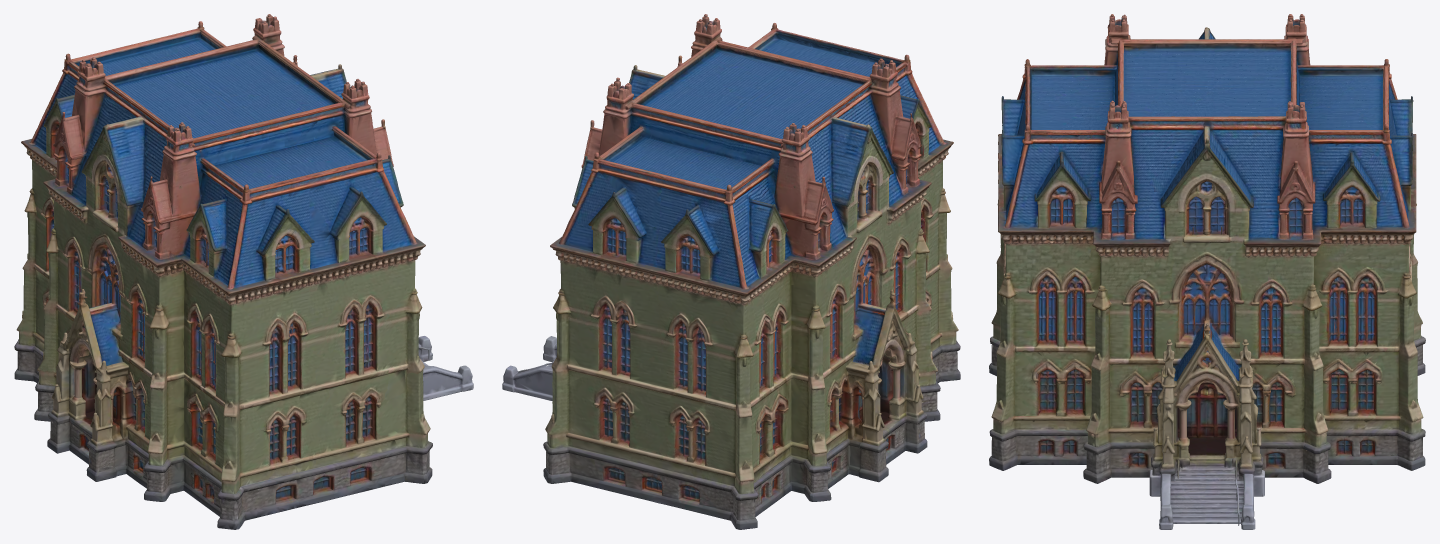
Rendered from college-hall.glb.
The picture shows the model from 3 angles, left to right: view 1: azimuth 30°, elevation 25°; view 2: azimuth 150°, elevation 25°; view 3: azimuth 270°, elevation 25°; orthographic projection.
Visible parts, largest first — view 1: tripo_node_9501751c-2b44-45da-a103-8923f5d57821; view 2: tripo_node_9501751c-2b44-45da-a103-8923f5d57821; view 3: tripo_node_9501751c-2b44-45da-a103-8923f5d57821.
Part boxes in pixels (left/top/right/bottom): tripo_node_9501751c-2b44-45da-a103-8923f5d57821: left=14, top=14, right=473, bottom=529; tripo_node_9501751c-2b44-45da-a103-8923f5d57821: left=502, top=14, right=960, bottom=529; tripo_node_9501751c-2b44-45da-a103-8923f5d57821: left=989, top=14, right=1425, bottom=529.
Bounding box in the file's own units: 1 × 0.9015 × 0.9898.
1 material, 1 textured.
